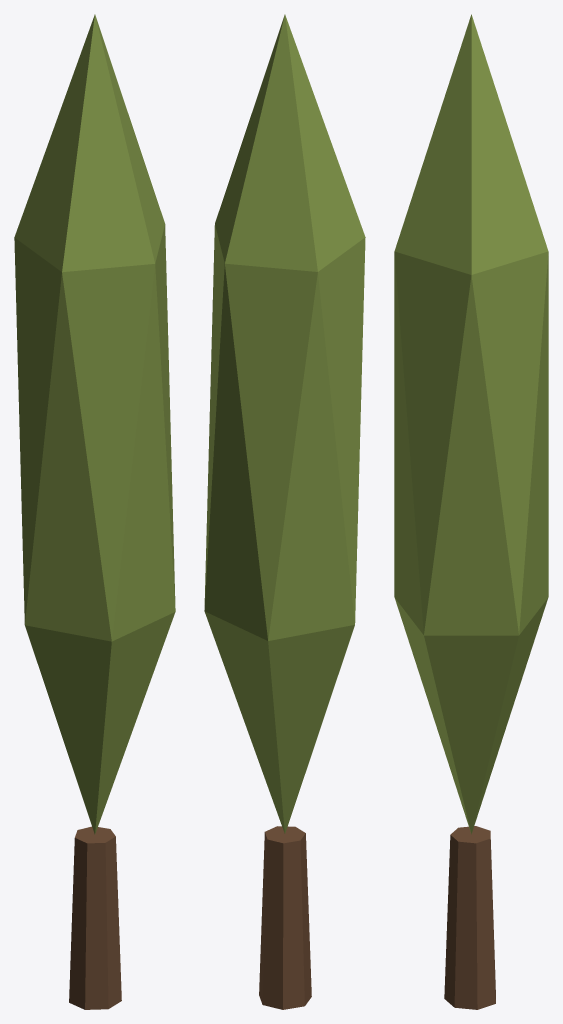
File: VG_Tree_Columnar.fbx
3 renders of one model, left to right at view 1: azimuth 30°, elevation 25°; view 2: azimuth 150°, elevation 25°; view 3: azimuth 270°, elevation 25°, orthographic.
Visible parts, largest first — view 1: VG_Tree_Columnar_Mesh; view 2: VG_Tree_Columnar_Mesh; view 3: VG_Tree_Columnar_Mesh.
Part boxes in pixels (x1,y1,x2,y2): VG_Tree_Columnar_Mesh: [14, 14, 175, 1009]; VG_Tree_Columnar_Mesh: [204, 14, 365, 1009]; VG_Tree_Columnar_Mesh: [394, 14, 548, 1009].
Size of the model in its own units: 1.07 by 7.2 by 1.02.
